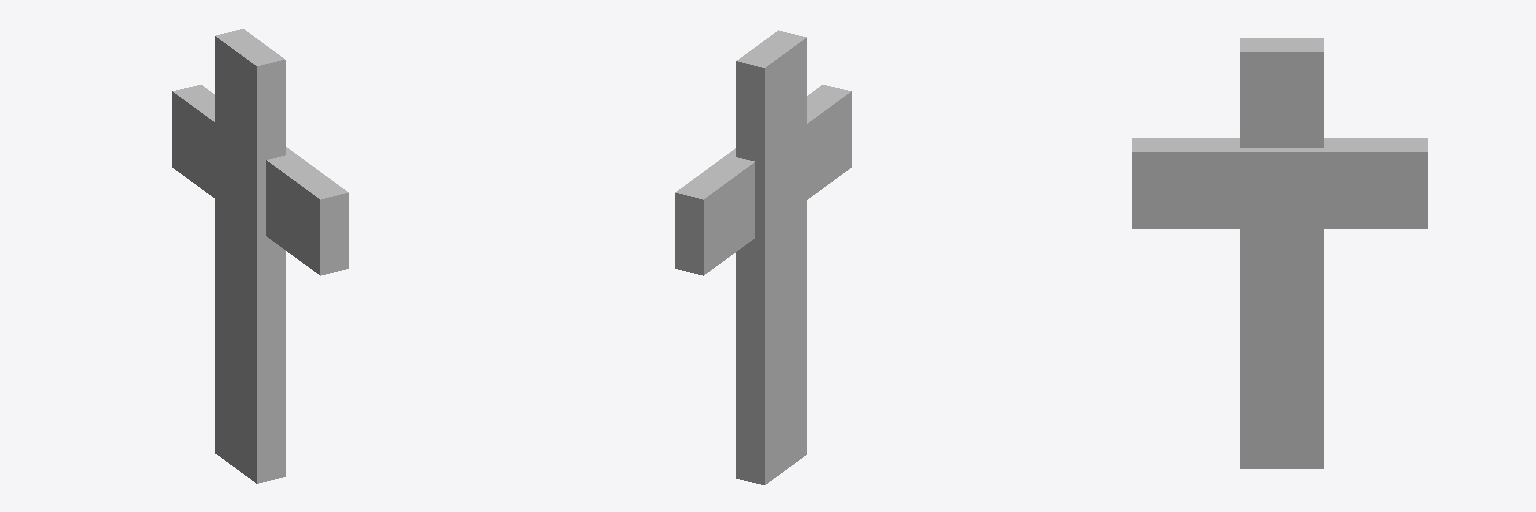
File: cross.obj
3 views of the same model, side by side, from view 1: azimuth 30°, elevation 25°; view 2: azimuth 150°, elevation 25°; view 3: azimuth 270°, elevation 25° (orthographic).
Visible parts, largest first — view 1: Cube.001; view 2: Cube.001; view 3: Cube.001.
Boxes of the visible parts, <box> form: Cube.001: <box>172,29,348,483</box>; Cube.001: <box>675,30,851,484</box>; Cube.001: <box>1132,38,1427,468</box>.
Bounding box in the file's own units: 0.1751 × 1.84 × 1.18.